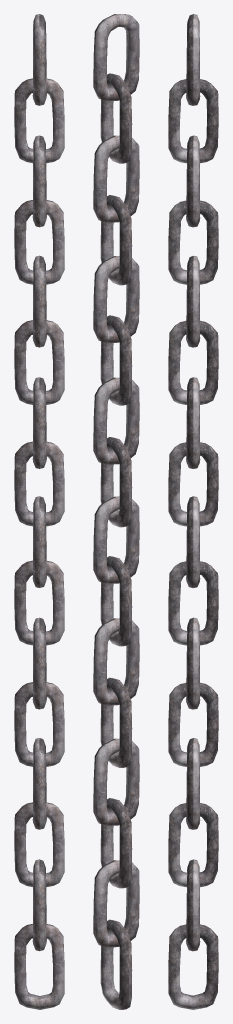
File: Chain.fbx
3 views of the same model, side by side, from view 1: azimuth 90°, elevation 25°; view 2: azimuth 210°, elevation 25°; view 3: azimuth 270°, elevation 25° (orthographic).
Parts seen in each view (by area): view 1: Torus.001; view 2: Torus.001; view 3: Torus.001.
Part boxes in pixels (left/top/right/bottom): Torus.001: left=14, top=14, right=64, bottom=1009; Torus.001: left=93, top=14, right=139, bottom=1009; Torus.001: left=168, top=14, right=218, bottom=1009.
Size of the model in its own units: 33.8 by 732 by 33.8.
Materials: 1 (1 with a texture image).
